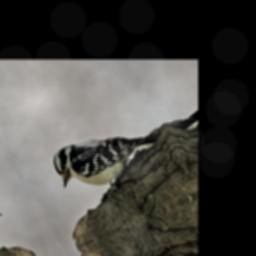Woodpecker: (45, 108, 182, 217)
